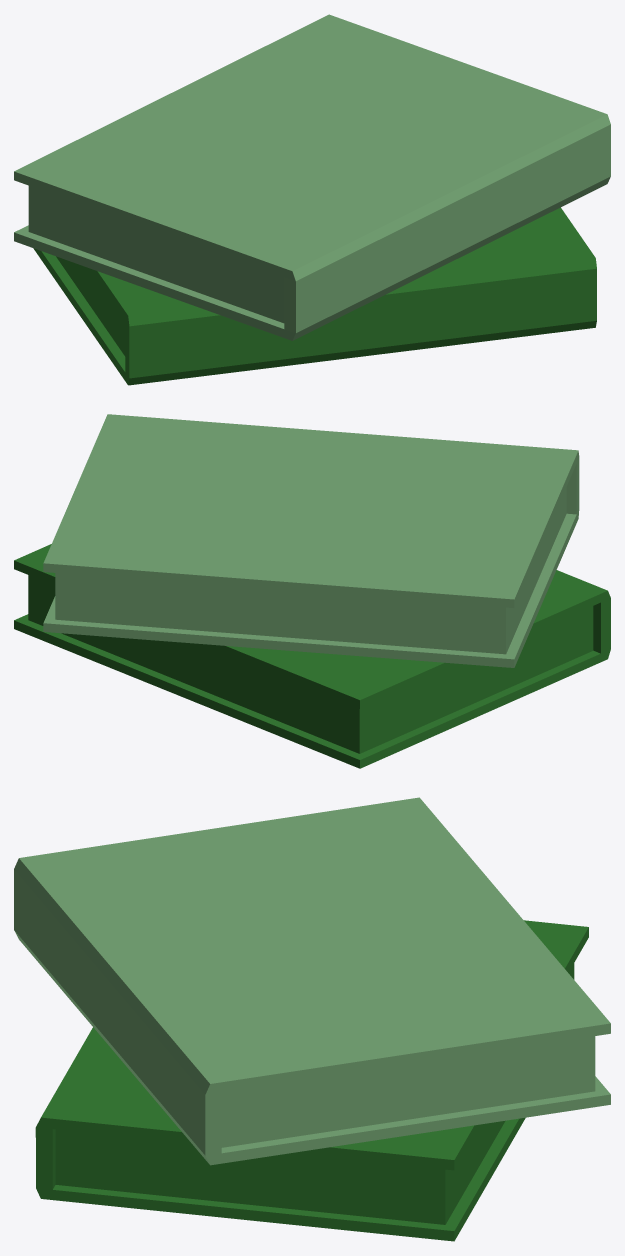
Rendered from Bookstack3_Mesh.fbx.
The picture shows the model from 3 angles, top to bottom: view 1: azimuth 30°, elevation 25°; view 2: azimuth 150°, elevation 25°; view 3: azimuth 270°, elevation 25°; orthographic projection. The views are drawn at different scales.
Visible parts, largest first — view 1: bookstack3; view 2: bookstack3; view 3: bookstack3.
Part boxes in pixels (x1,y1,x2,y2): bookstack3: (14, 14, 610, 385); bookstack3: (14, 414, 610, 768); bookstack3: (14, 797, 610, 1241).
Size of the model in its own units: 61.52 by 16.26 by 54.02.
